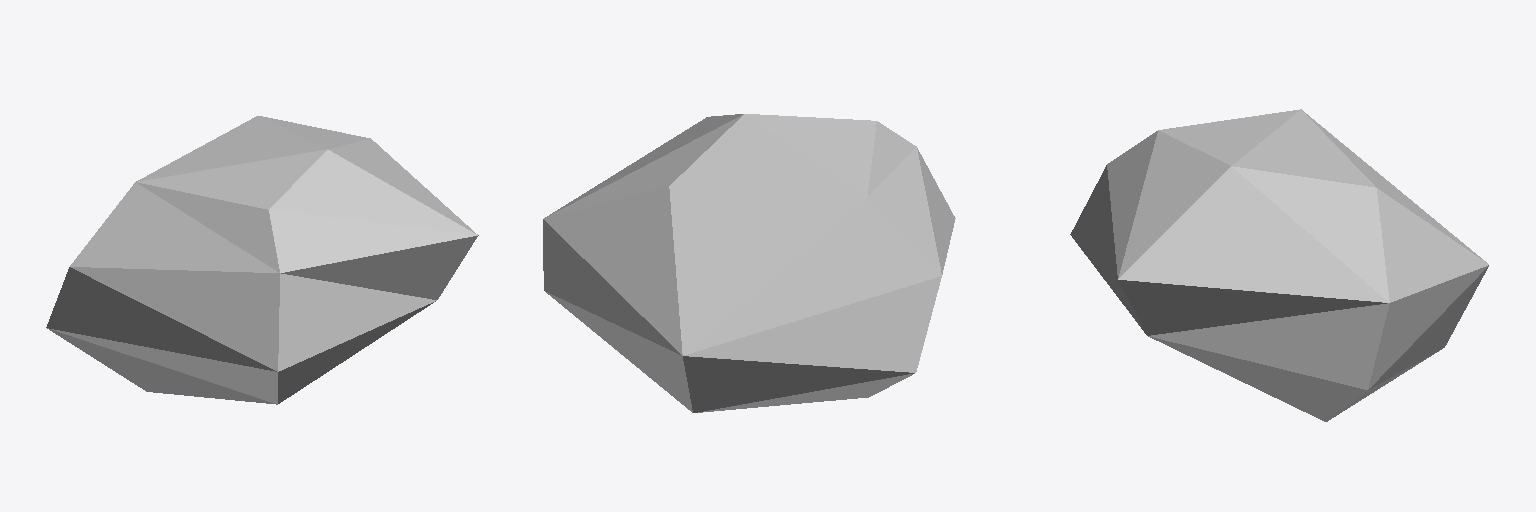
File: rock.obj
3 views of the same model, side by side, from view 1: azimuth 30°, elevation 25°; view 2: azimuth 150°, elevation 25°; view 3: azimuth 270°, elevation 25° (orthographic).
Parts seen in each view (by area): view 1: rock; view 2: rock; view 3: rock.
Part boxes in pixels (x1,y1,x2,y2): rock: (46, 116, 478, 404); rock: (543, 114, 955, 412); rock: (1070, 109, 1488, 421).
Size of the model in its own units: 3.1 by 1.85 by 3.12.